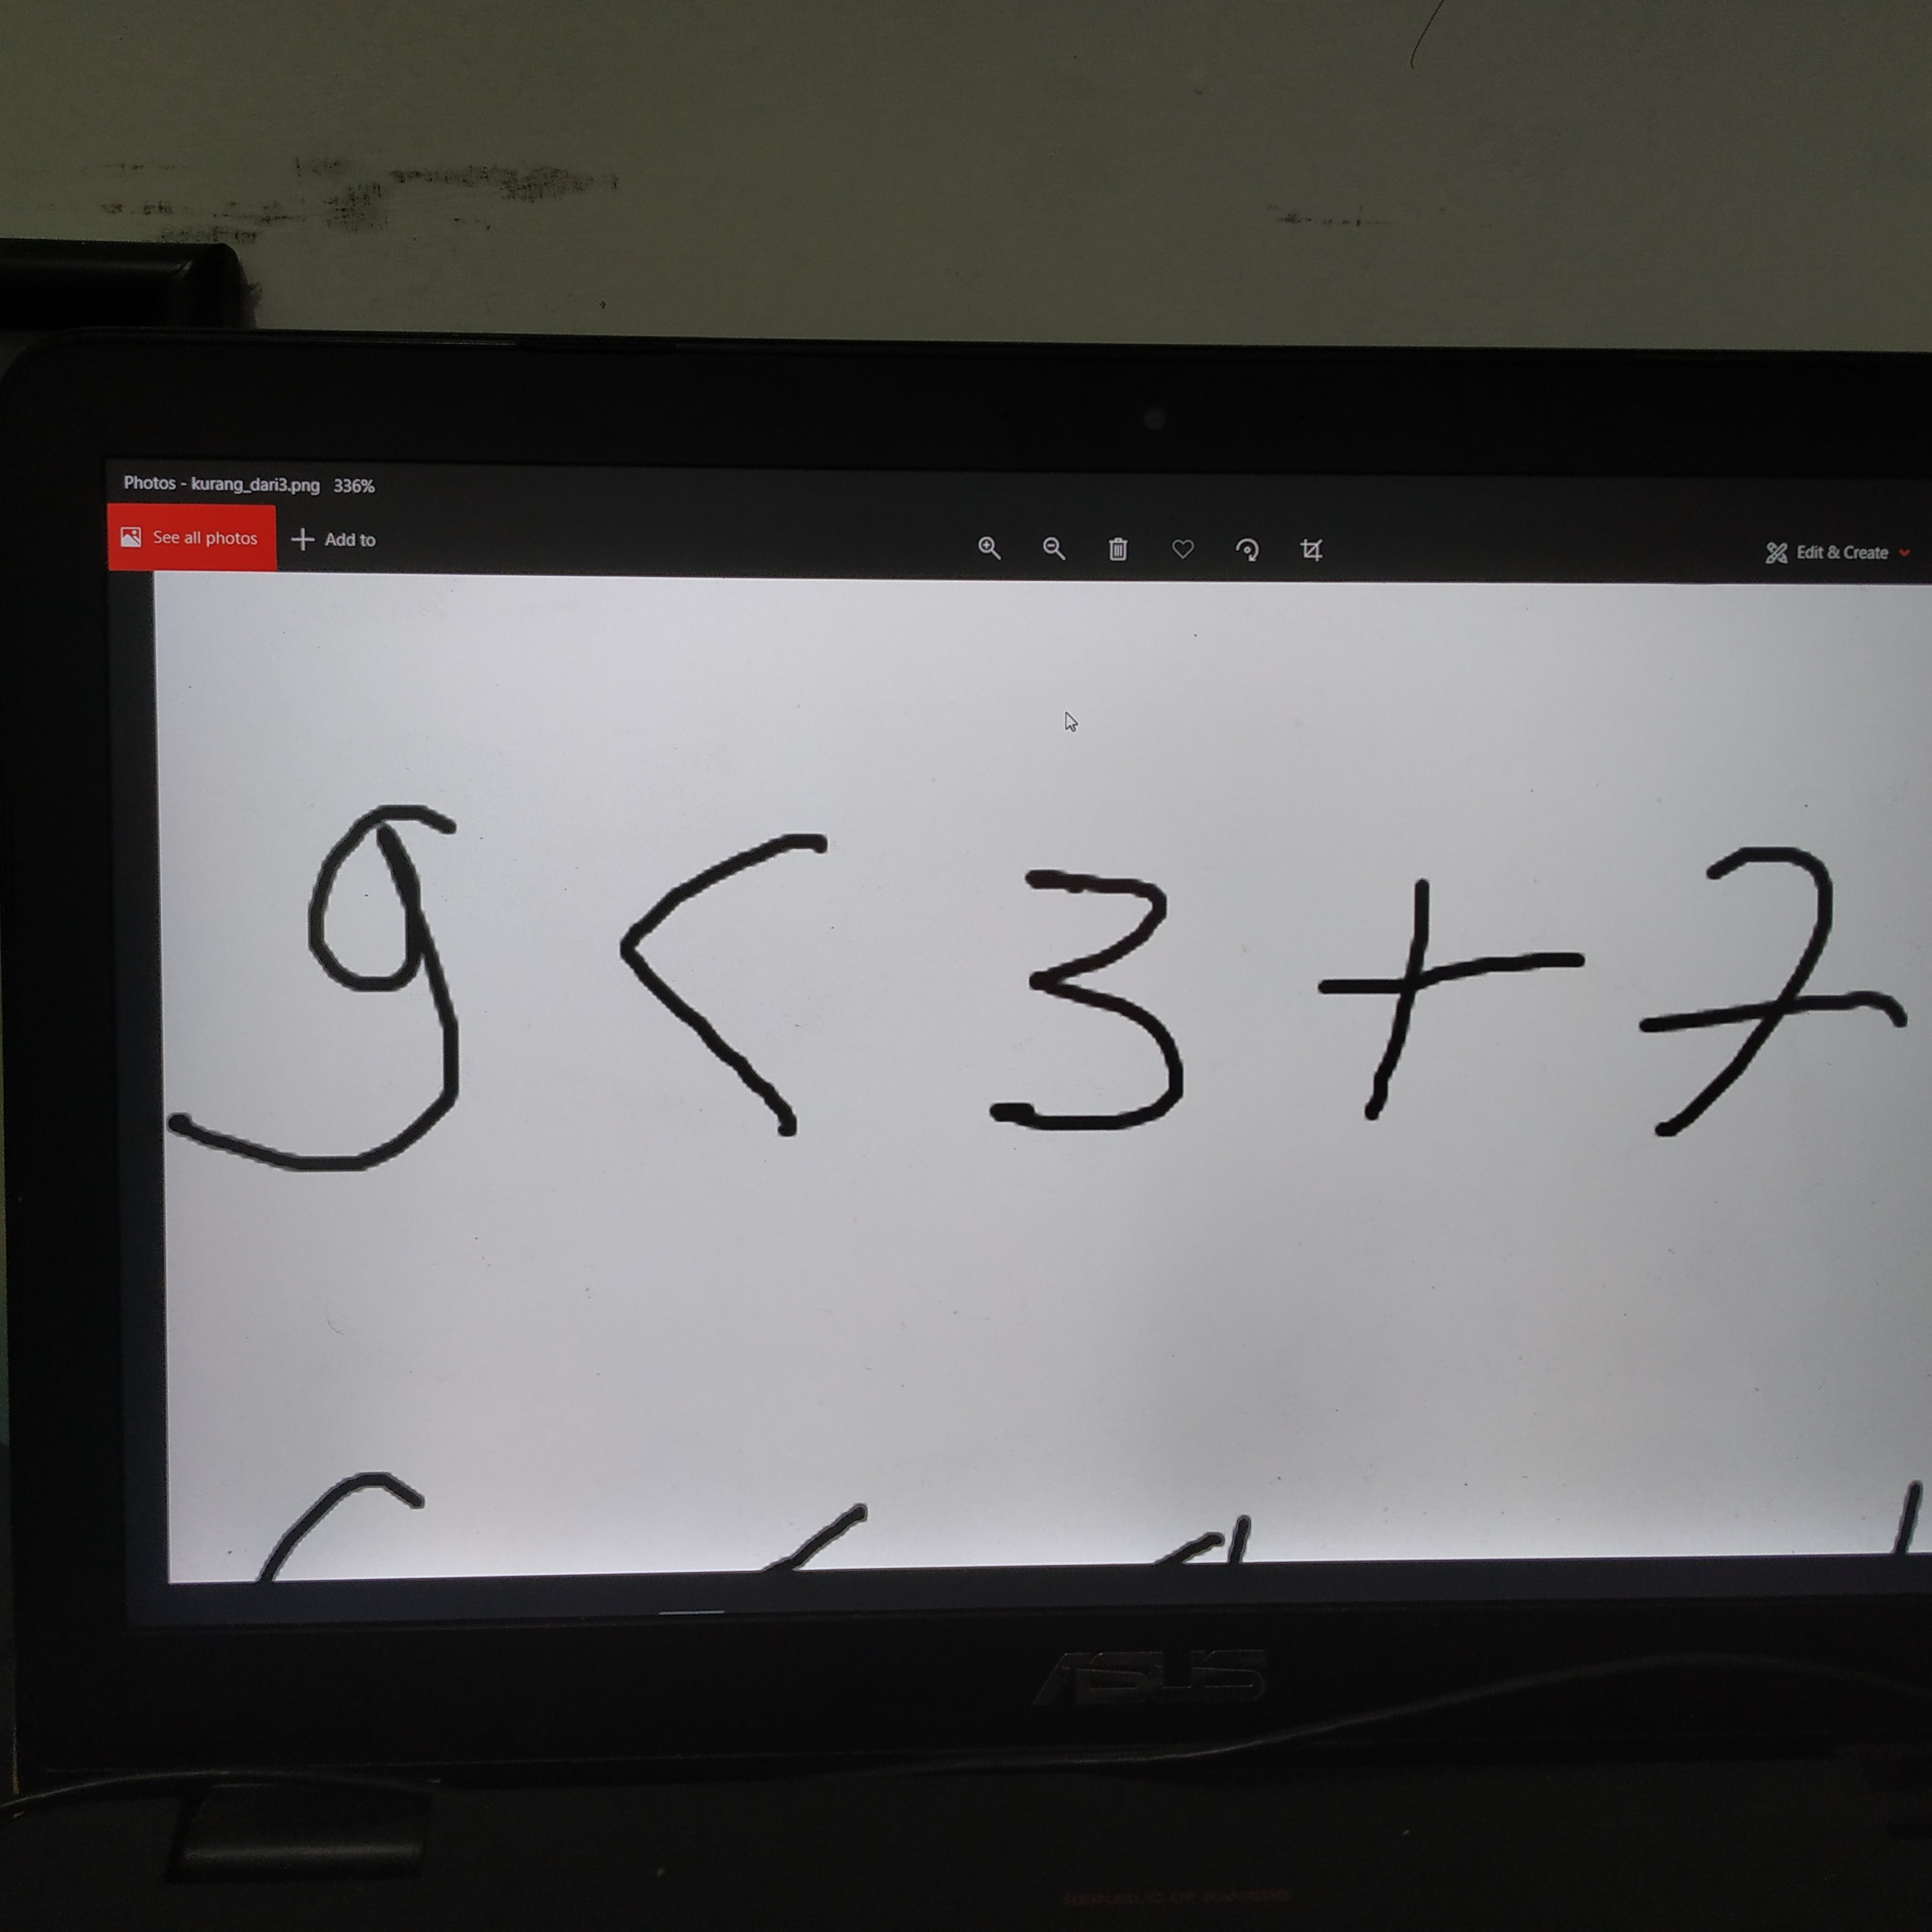lessthan: (601, 821, 877, 1147)
num3: (963, 831, 1242, 1178)
num7: (1626, 829, 1915, 1162)
num9: (167, 798, 549, 1186)
sum: (1304, 864, 1609, 1137)
